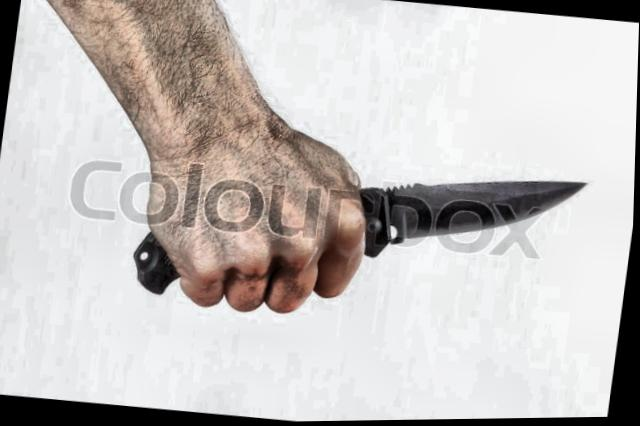knife: (174, 129, 604, 353)
